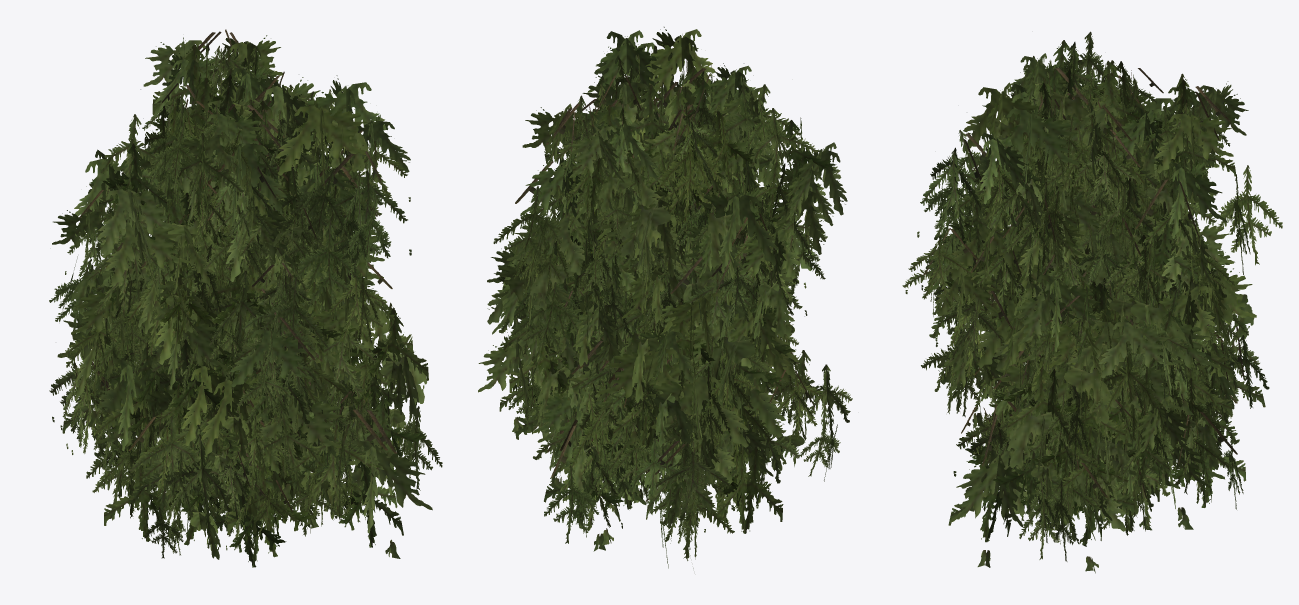
Rendered from hedge-shrub-lod0.glb.
The picture shows the model from 3 angles, left to right: view 1: azimuth 30°, elevation 25°; view 2: azimuth 150°, elevation 25°; view 3: azimuth 270°, elevation 25°; orthographic projection. The views are drawn at different scales.
Parts seen in each view (by area): view 1: foliage; view 2: foliage; view 3: foliage.
Boxes of the visible parts, bbox=[...] form: foliage: bbox=[49, 29, 442, 567]; foliage: bbox=[478, 27, 852, 568]; foliage: bbox=[902, 31, 1282, 573].
Bounding box in the file's own units: 1.01 × 1.27 × 0.994.
Materials: 1 (1 with a texture image).
